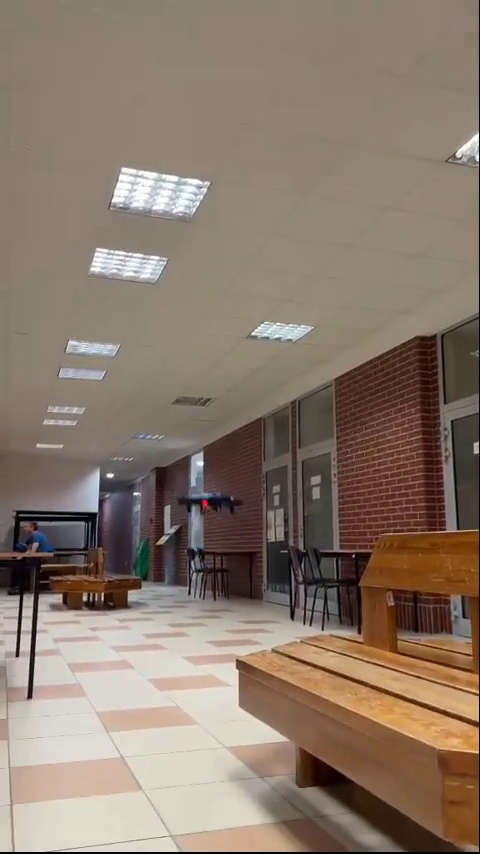drone: (177, 493, 242, 518)
no vest: (14, 521, 45, 578)
